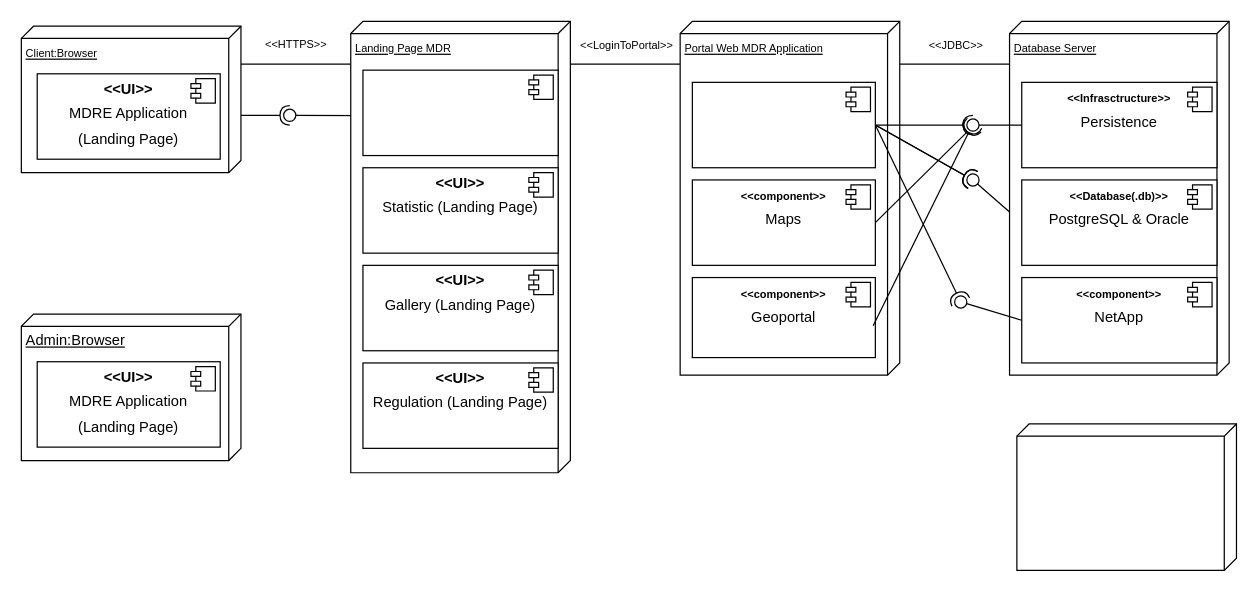
Some shapes in this 1258 by 592 pixel diagram are drawn without their labels. Each missing label, with the centre of its shape:
"<<component>> Collection" belongs at (783,124).
"<<UI>> Maps (Landing Page)" belongs at (460,112).
"Block" belongs at (1126,496).
